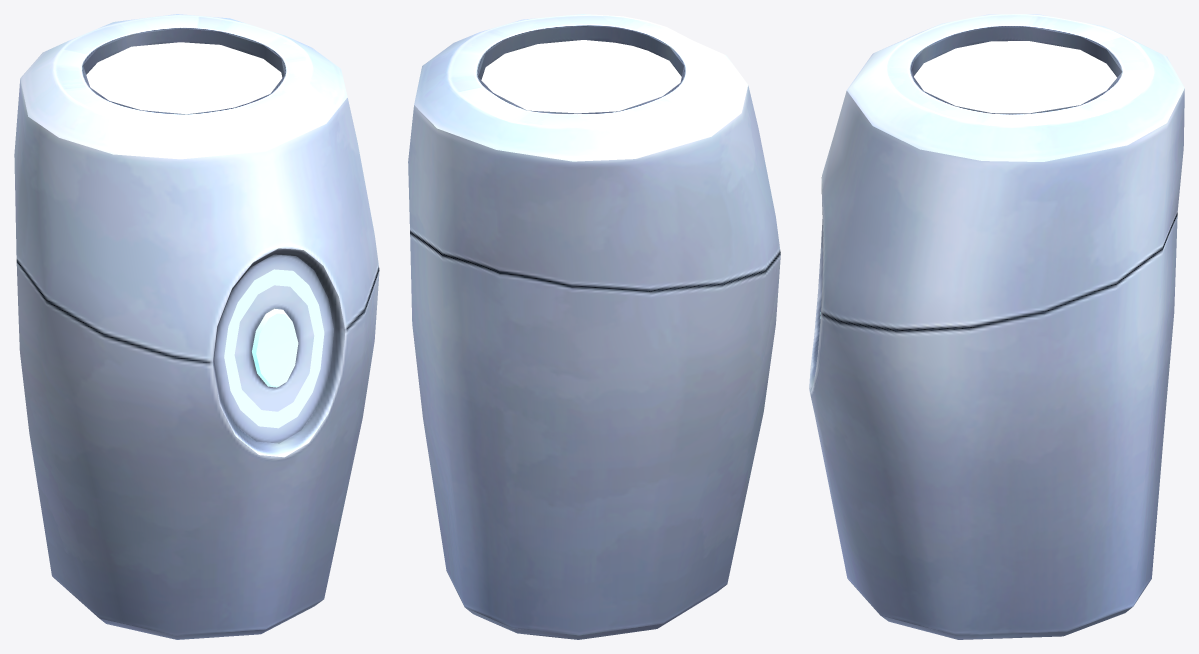
Rendered from obj_bin01.gltf.
3 renders of one model, left to right at view 1: azimuth 30°, elevation 25°; view 2: azimuth 150°, elevation 25°; view 3: azimuth 270°, elevation 25°, orthographic. The views are drawn at different scales.
Visible parts, largest first — view 1: obj_bin01; view 2: obj_bin01; view 3: obj_bin01.
Boxes of the visible parts, x1,y1,x2,y2 form: obj_bin01: (14, 14, 379, 639); obj_bin01: (408, 14, 780, 639); obj_bin01: (809, 14, 1184, 639).
Size of what is drawn, in the model's own units: 0.4662 by 0.7114 by 0.4671.
Materials: 2 (1 with a texture image).
